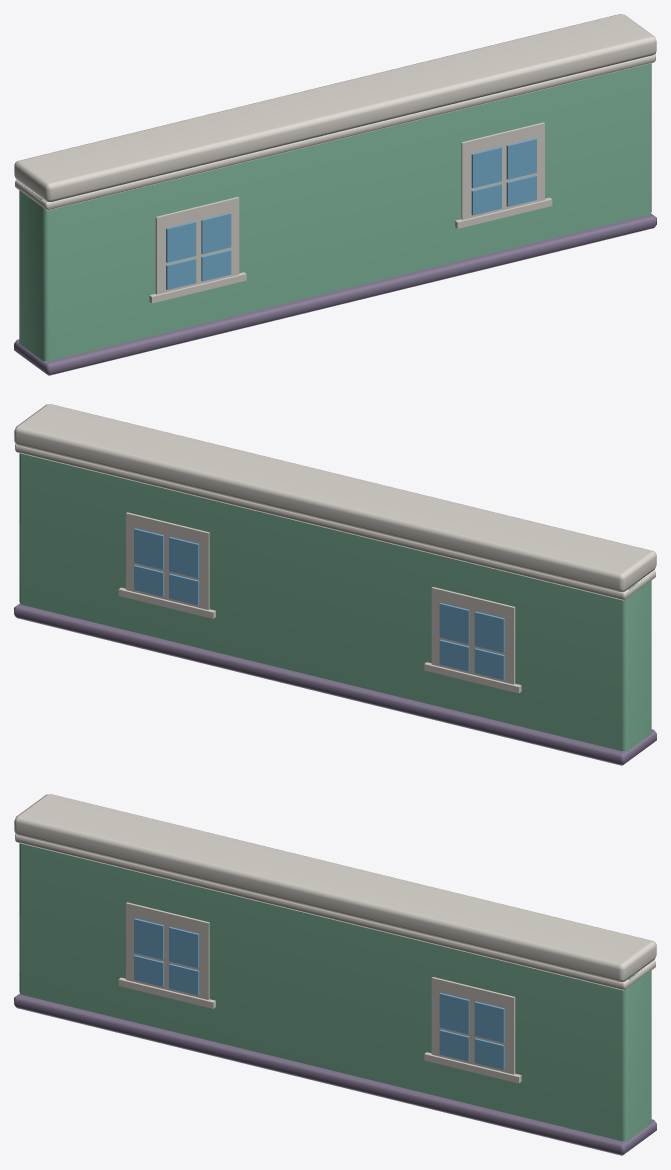
Rendered from block-wall2.glb.
3 views of the same model, one above another, from view 1: azimuth 30°, elevation 25°; view 2: azimuth 150°, elevation 25°; view 3: azimuth 330°, elevation 25° (orthographic).
Visible parts, largest first — view 1: block-wall2; view 2: block-wall2; view 3: block-wall2.
Boxes of the visible parts, box(x1,y1,x2,y2) form: block-wall2: box(14, 14, 656, 375); block-wall2: box(14, 404, 656, 765); block-wall2: box(14, 794, 656, 1155).
Bounding box in the file's own units: 4 × 1.2 × 0.4.
